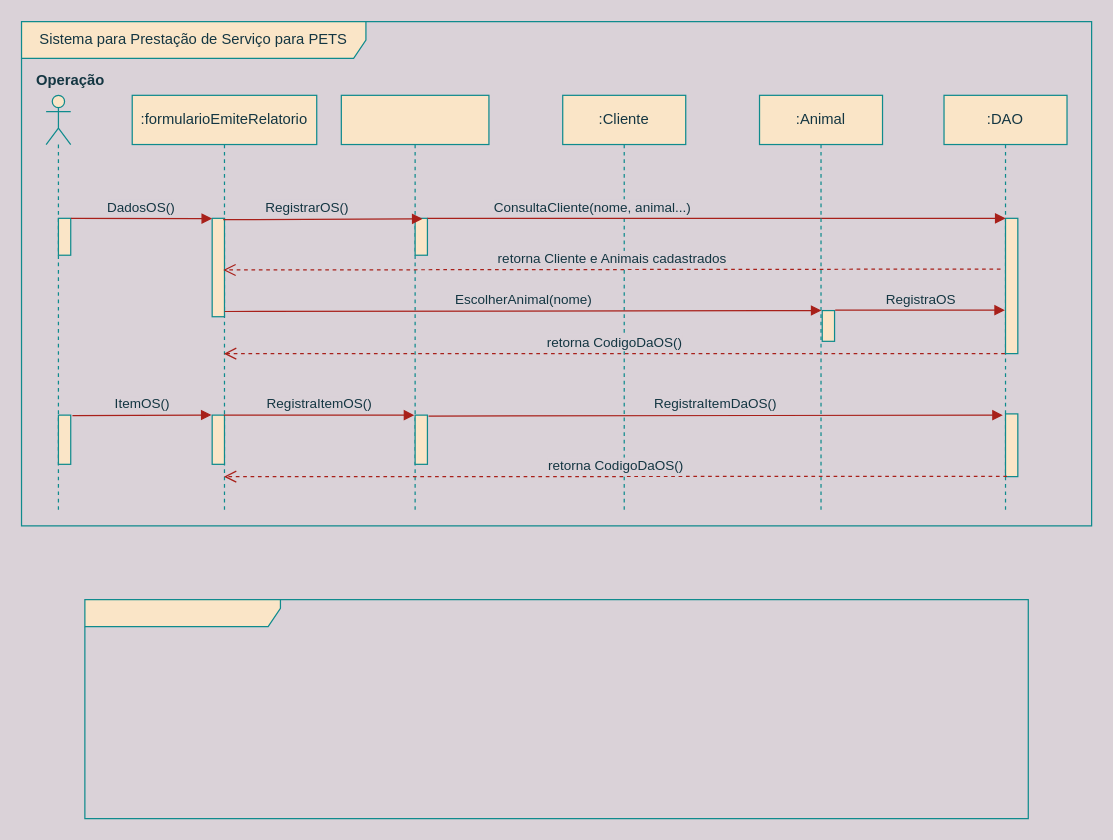
The diagram is 1113 pixels wide and 840 high, and some of its shapes have lost their labels. Each missing label, with the box of its shape:
:controleRegistroOS: (340, 94, 489, 514)
Incluir Ordem de Serviço: (84, 598, 1028, 819)
